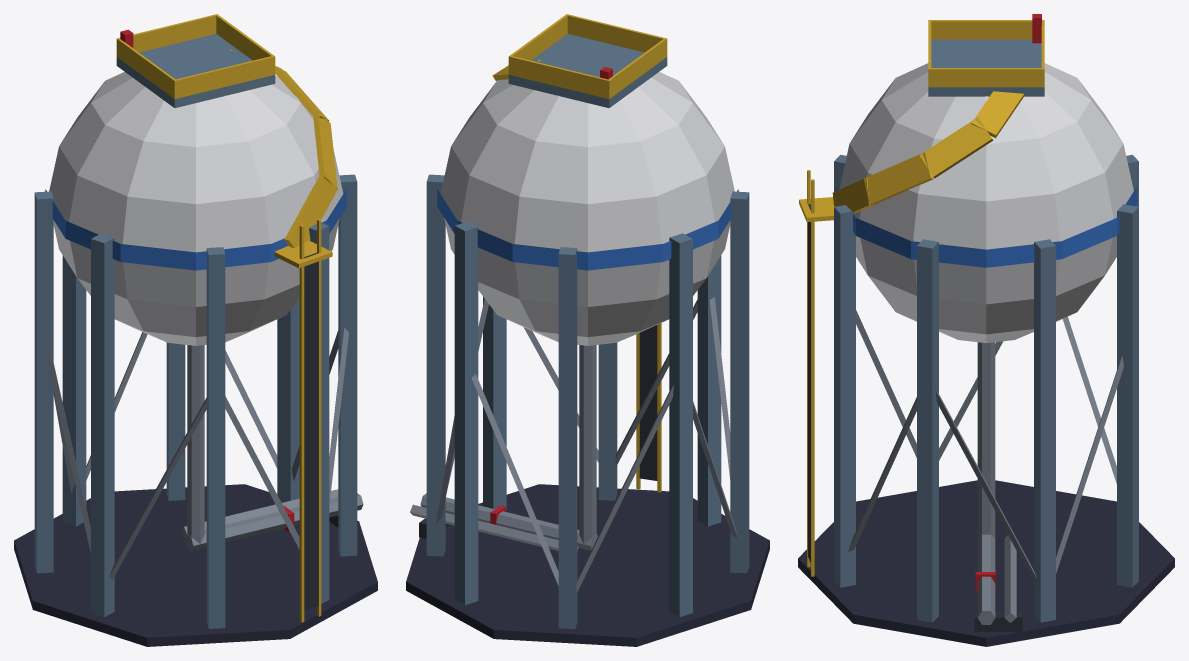
Rendered from lng_sphere.glb.
The picture shows the model from 3 angles, left to right: view 1: azimuth 30°, elevation 25°; view 2: azimuth 150°, elevation 25°; view 3: azimuth 270°, elevation 25°; orthographic projection.
Parts seen in each view (by area): view 1: lng_sphere; view 2: lng_sphere; view 3: lng_sphere.
Part boxes in pixels (left/top/right/bottom): lng_sphere: left=14, top=14, right=377, bottom=646; lng_sphere: left=406, top=14, right=769, bottom=646; lng_sphere: left=798, top=14, right=1174, bottom=646.
Bounding box in the file's own units: 9.4 × 14.59 × 9.4.
